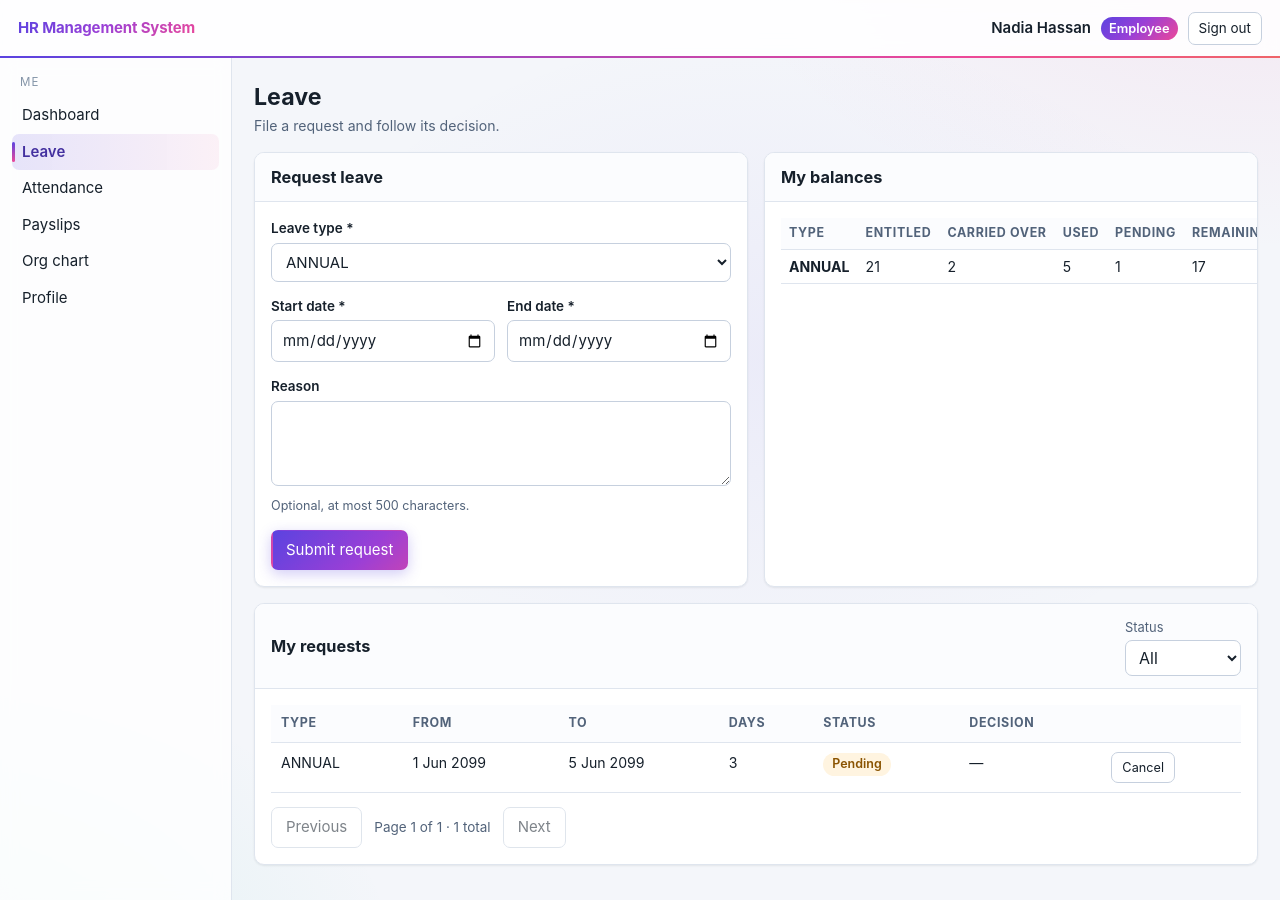
Test: leave page › puts the chosen status filter in the query string
Select "Approved" in the dropdown named "Filter by status": [1183, 658] box 1125,640 -> 1241,676
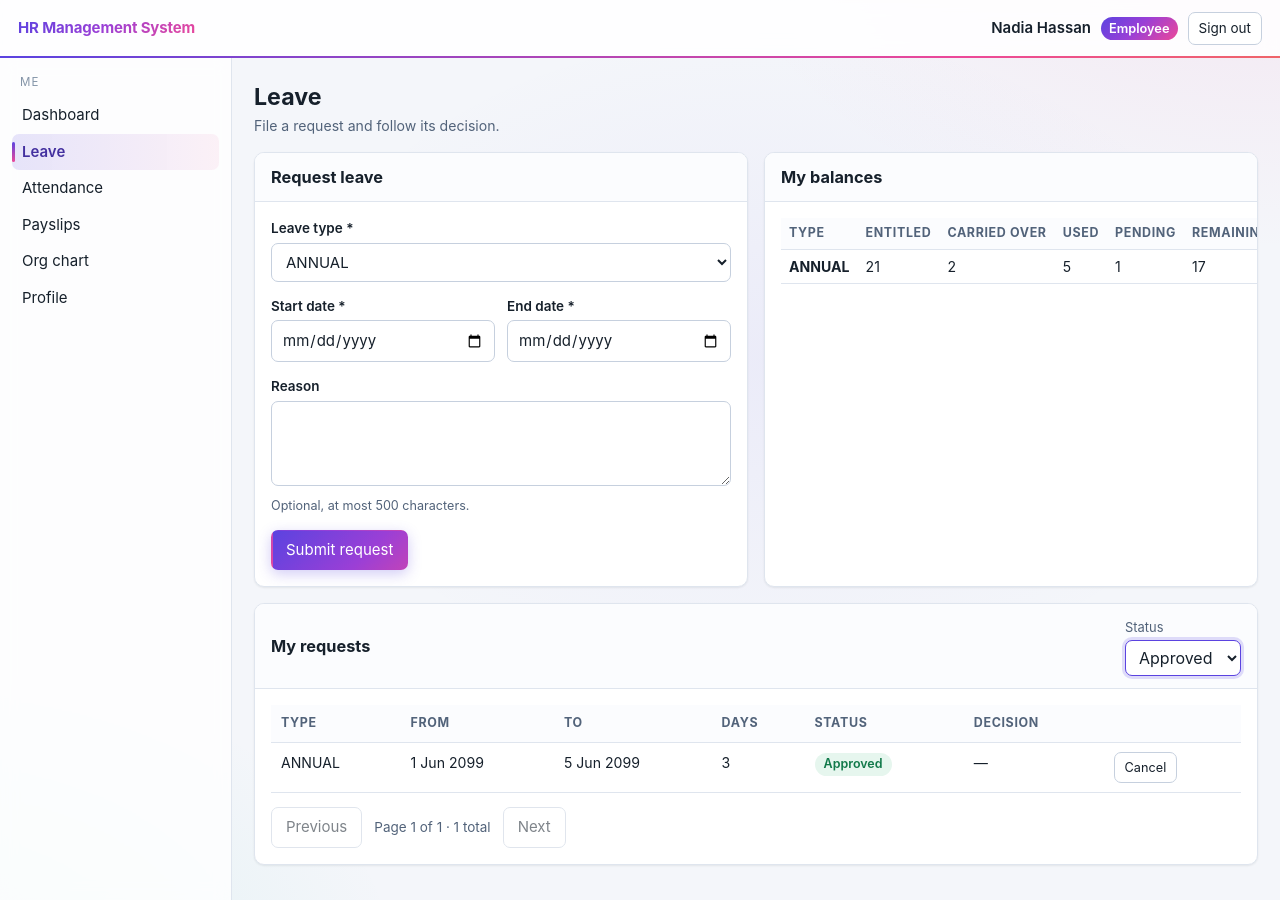
Expected: the text "Approved" is shown, 815,753 -> 892,776
